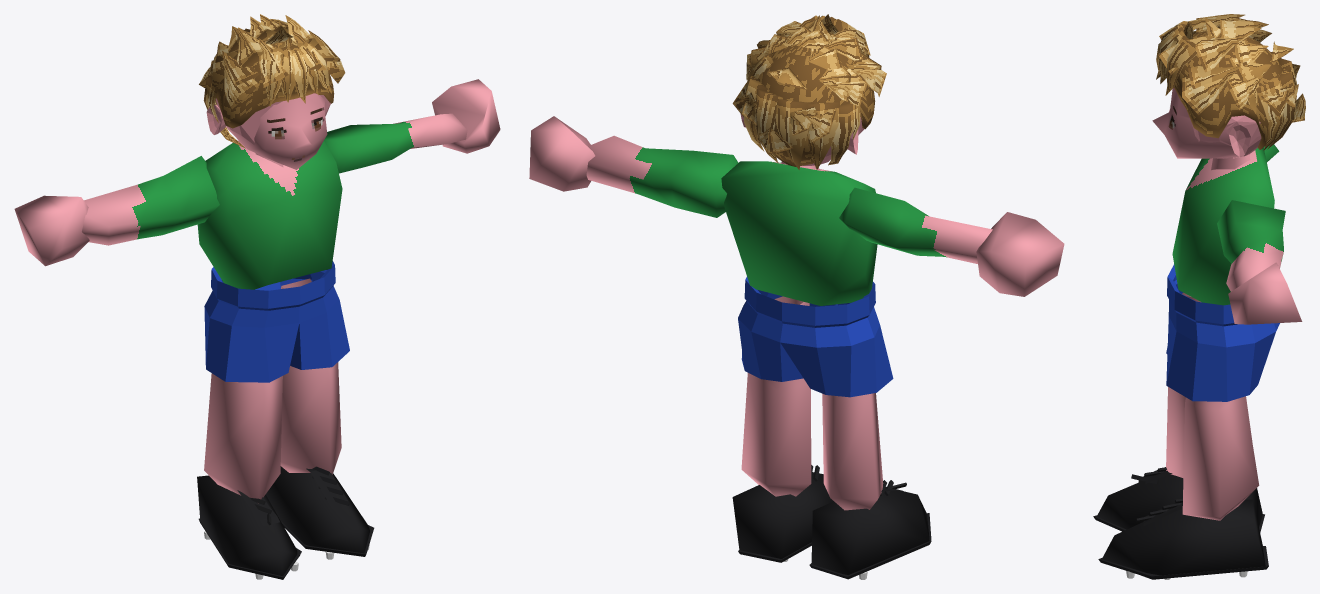
The model's file is 06-espetado-gel_loiro-natural.glb.
The picture shows the model from 3 angles, left to right: view 1: azimuth 30°, elevation 25°; view 2: azimuth 150°, elevation 25°; view 3: azimuth 270°, elevation 25°; orthographic projection. The views are drawn at different scales.
Visible parts, largest first — view 1: Camisa_Tronco, Bermuda, Cabelo, Perna.R, Braco.R, Perna.L, Chuteira.R, Chuteira.L, Braco.L, Cabeca, Mao.R, Mao.L (+2 smaller); view 2: Camisa_Tronco, Cabelo, Bermuda, Perna.L, Braco.L, Chuteira.R, Perna.R, Braco.R, Mao.R, Chuteira.L, Mao.L, Chuteira_Sola.R; view 3: Cabelo, Bermuda, Chuteira.L, Camisa_Tronco, Perna.L, Braco.L, Mao.L, Chuteira.R, Cabeca, Perna.R, Chuteira_Sola.L, Cranio (+4 smaller).
Part boxes in pixels (left/top/right/bottom): Camisa_Tronco: left=197, top=140, right=342, bottom=289; Bermuda: left=204, top=261, right=349, bottom=382; Cabelo: left=199, top=14, right=345, bottom=148; Perna.R: left=204, top=373, right=282, bottom=503; Braco.R: left=82, top=156, right=219, bottom=245; Perna.L: left=280, top=278, right=341, bottom=474; Chuteira.R: left=197, top=475, right=299, bottom=575; Chuteira.L: left=265, top=466, right=369, bottom=553; Braco.L: left=324, top=113, right=467, bottom=173; Cabeca: left=231, top=93, right=327, bottom=169; Mao.R: left=14, top=195, right=89, bottom=266; Mao.L: left=432, top=79, right=500, bottom=153; Camisa_Tronco: left=721, top=161, right=877, bottom=305; Cabelo: left=732, top=14, right=886, bottom=169; Bermuda: left=738, top=277, right=893, bottom=397; Perna.L: left=741, top=296, right=811, bottom=496; Braco.L: left=586, top=135, right=738, bottom=217; Chuteira.R: left=811, top=487, right=929, bottom=574; Perna.R: left=822, top=393, right=883, bottom=510; Braco.R: left=839, top=187, right=992, bottom=263; Mao.R: left=976, top=212, right=1064, bottom=296; Chuteira.L: left=732, top=472, right=833, bottom=558; Mao.L: left=529, top=116, right=595, bottom=191; Chuteira_Sola.R: left=809, top=513, right=931, bottom=579; Cabelo: left=1156, top=14, right=1305, bottom=150; Bermuda: left=1166, top=264, right=1279, bottom=401; Chuteira.L: left=1102, top=499, right=1266, bottom=579; Camisa_Tronco: left=1172, top=148, right=1274, bottom=305; Perna.L: left=1182, top=396, right=1259, bottom=520; Braco.L: left=1217, top=200, right=1285, bottom=291; Mao.L: left=1228, top=262, right=1302, bottom=324; Chuteira.R: left=1097, top=470, right=1262, bottom=529; Cabeca: left=1152, top=88, right=1244, bottom=158; Perna.R: left=1166, top=292, right=1252, bottom=477; Chuteira_Sola.L: left=1098, top=546, right=1268, bottom=579; Cranio: left=1192, top=115, right=1261, bottom=158.
Size of the model in its own units: 0.4523 by 0.4575 by 0.1645.
3 materials, 3 textured.
